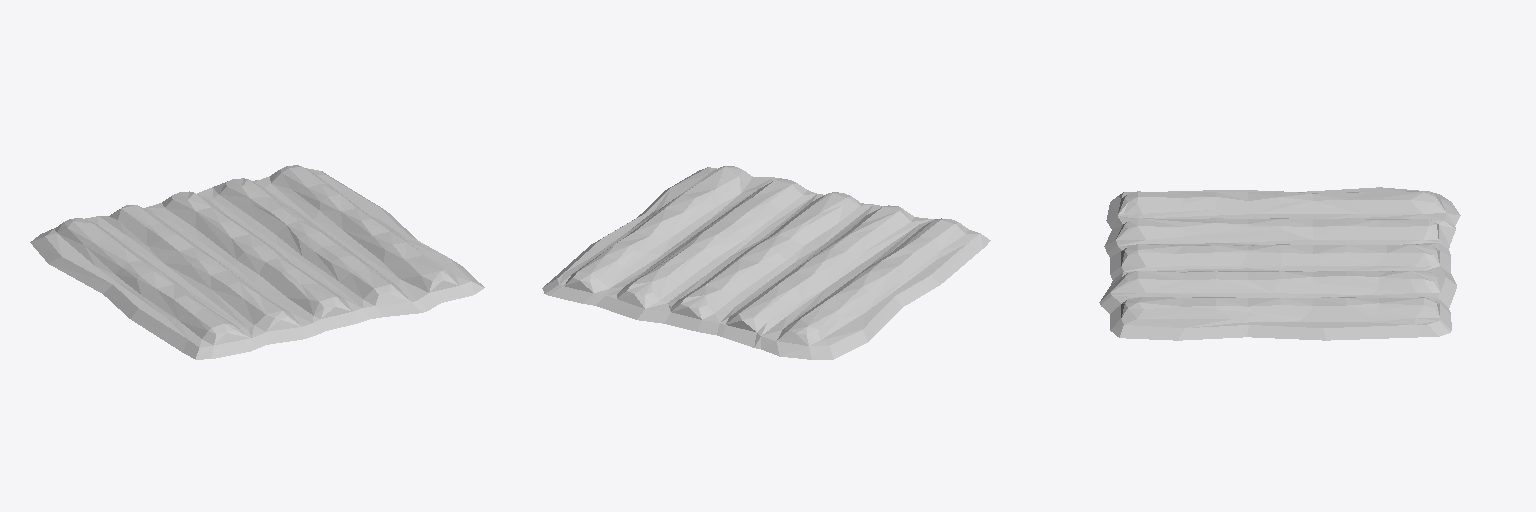
File: SM_Env_Dirt_Rows_Skirt_01.obj
3 views of the same model, side by side, from view 1: azimuth 30°, elevation 25°; view 2: azimuth 150°, elevation 25°; view 3: azimuth 270°, elevation 25° (orthographic).
Visible parts, largest first — view 1: SM_Env_Dirt_Rows_Skirt_01; view 2: SM_Env_Dirt_Rows_Skirt_01; view 3: SM_Env_Dirt_Rows_Skirt_01.
Boxes of the visible parts, x1=… form: SM_Env_Dirt_Rows_Skirt_01: x1=30, y1=165, x2=484, y2=359; SM_Env_Dirt_Rows_Skirt_01: x1=542, y1=166, x2=990, y2=359; SM_Env_Dirt_Rows_Skirt_01: x1=1099, y1=187, x2=1460, y2=340.
Bounding box in the file's own units: 5.65 × 0.3334 × 5.74.